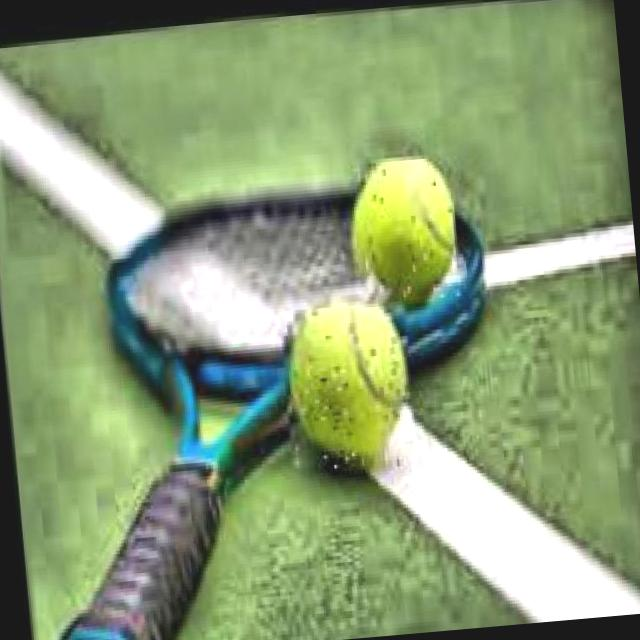Tennis Ball: (274, 294, 421, 480), (350, 147, 460, 305)
